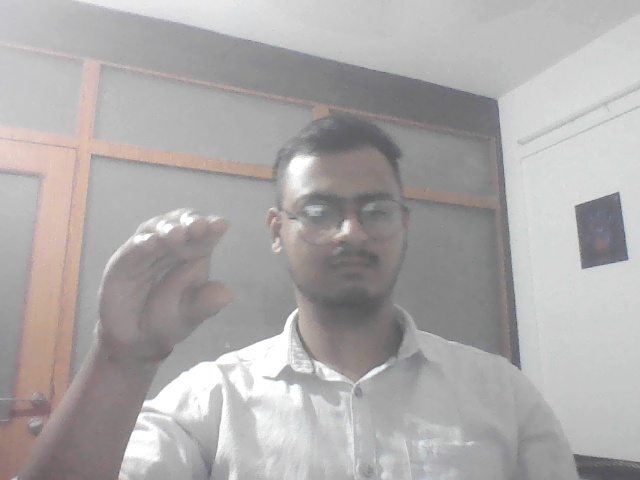NO: (79, 194, 247, 366)
